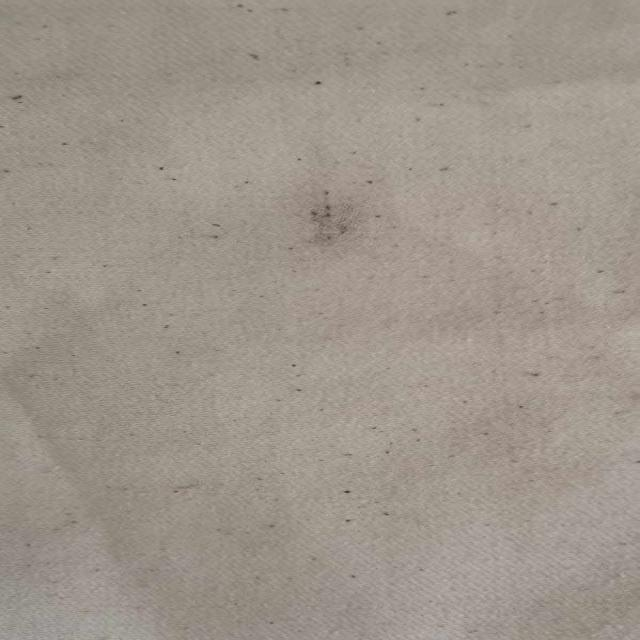taaaches: (285, 190, 413, 262)
